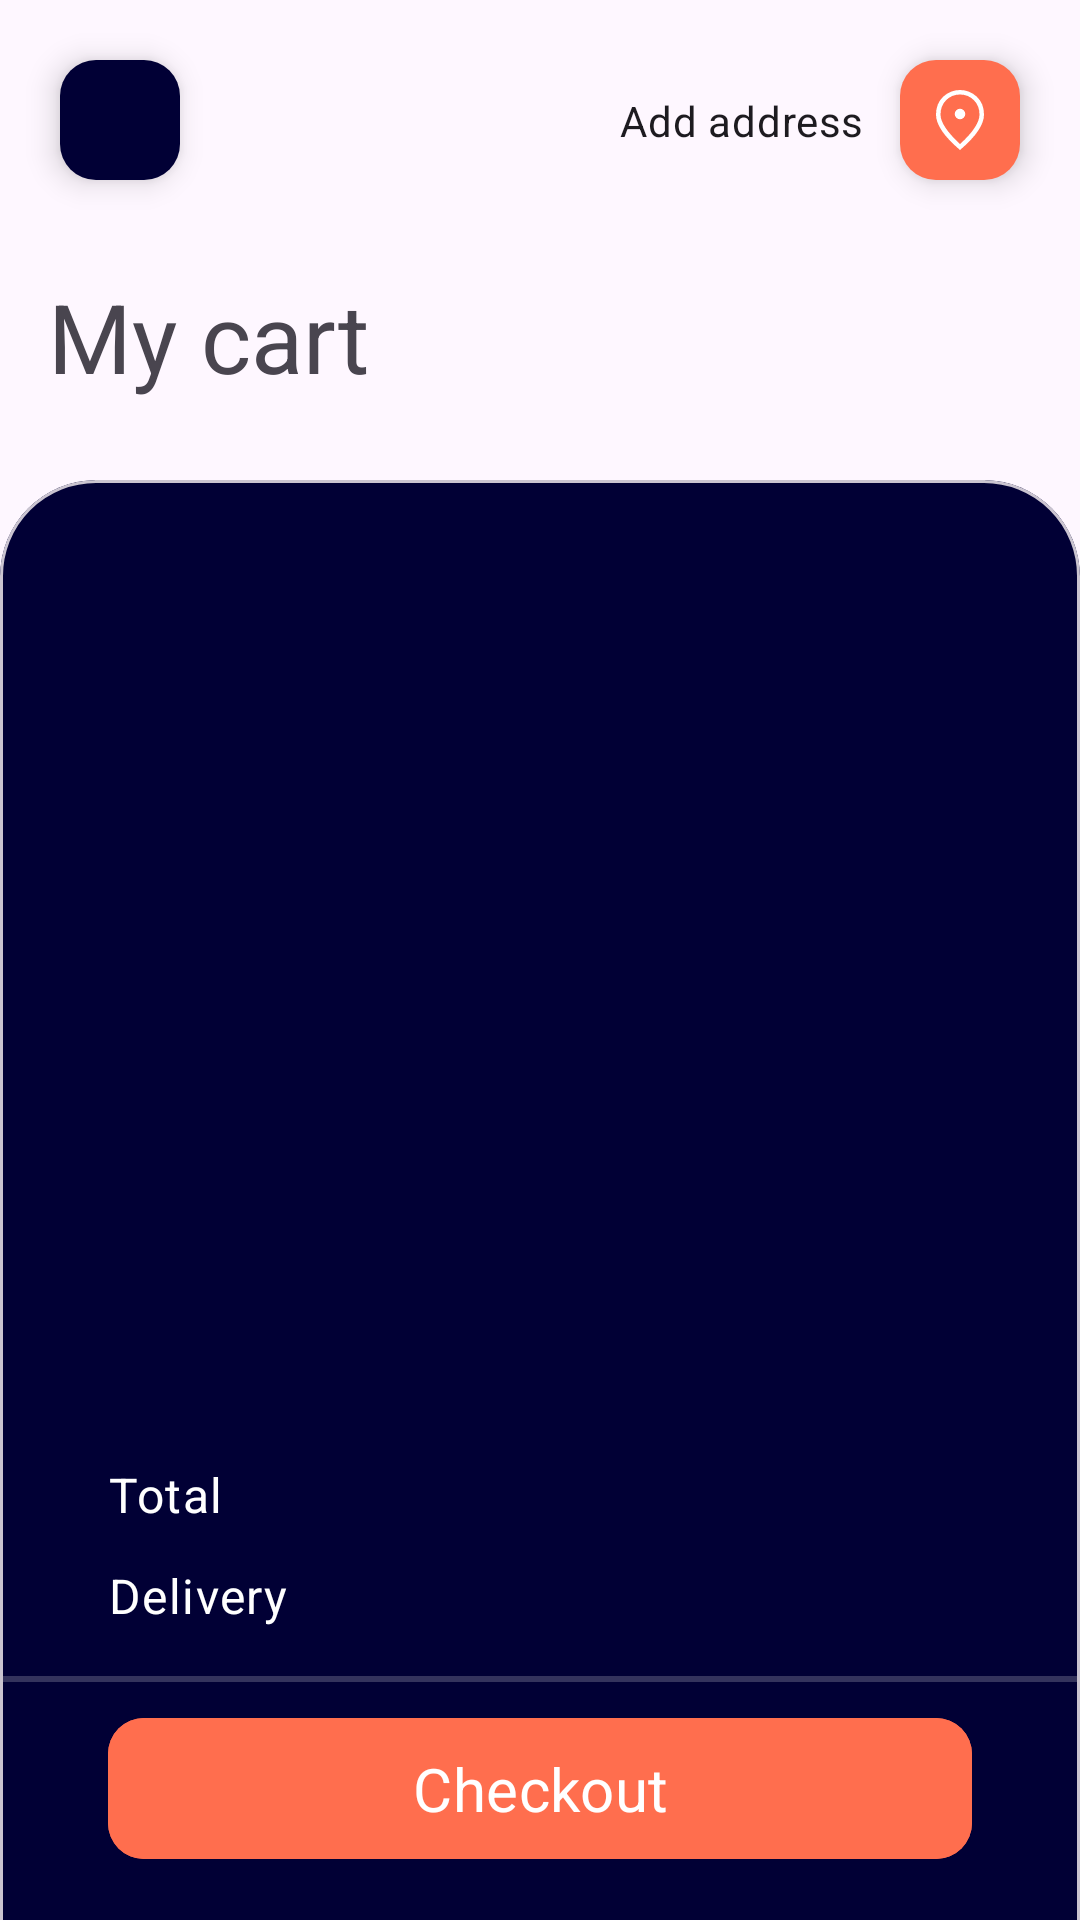

Point at icon controls on the screen. Image size 1080px×1920px, points as [x,y].
location: [961,120]
